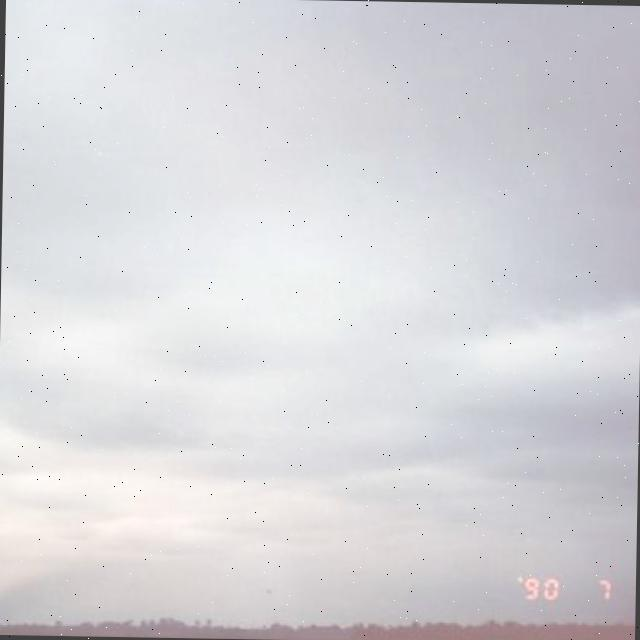Ns: (1, 92, 640, 522)
